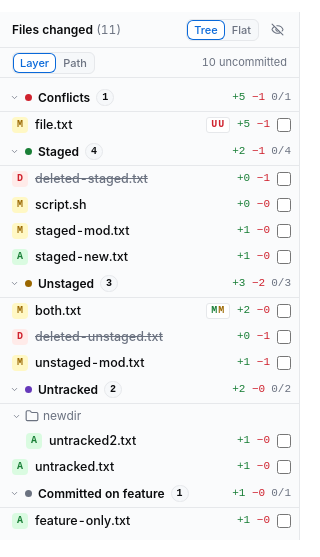
Scenario: Sidebar groups (T9.1, D1–D9) › a collapsed folder inside a group shows its file count and +n −m (D7)
This screenshot has width=320, height=557.
Click the list item "newdir" at (47, 416), box [12,408,81,423]
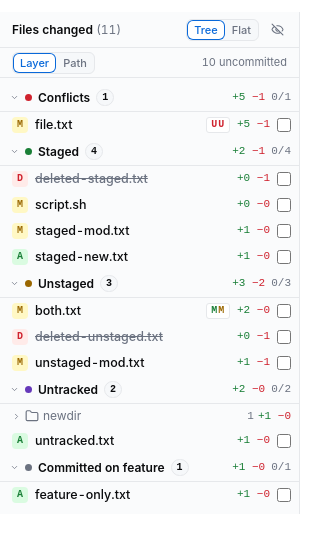
Result: the list item "newdir" is collapsed at [0,404,299,428]
Result: the list item "newdir" shows "1" at [247,410,254,422]
Result: the list item "newdir" shows "+1" at [0,404,299,428]
